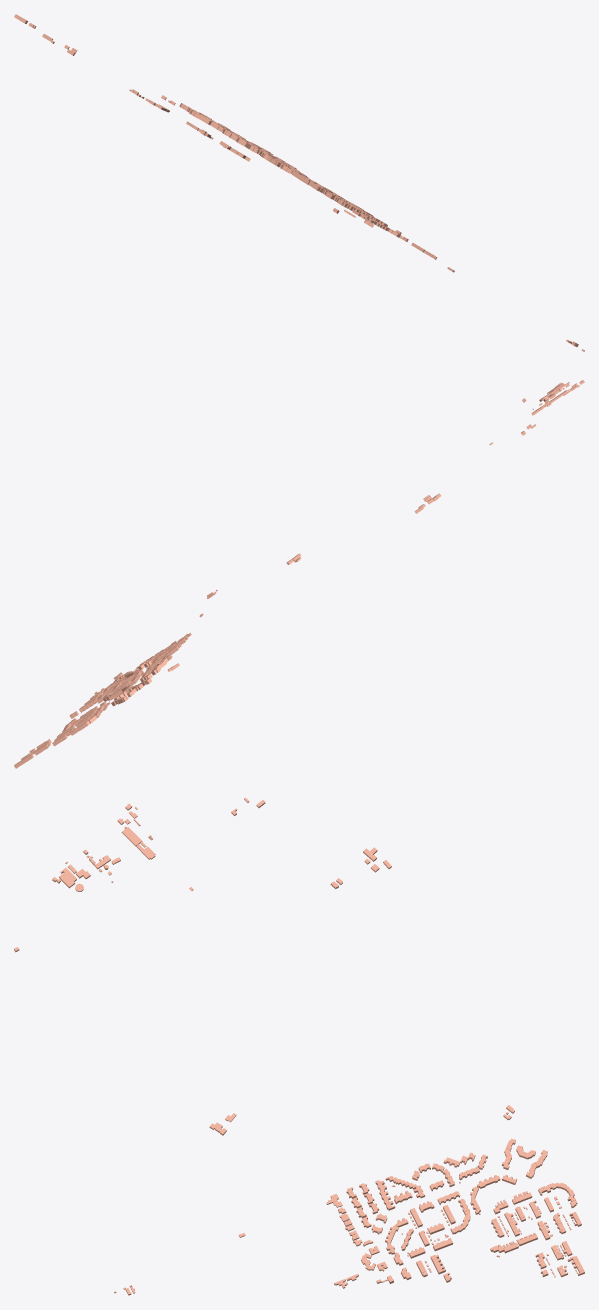
3 renders of one model, top to bottom at view 1: azimuth 30°, elevation 25°; view 2: azimuth 150°, elevation 25°; view 3: azimuth 270°, elevation 25°, orthographic. The views are drawn at different scales.
Bounding box in the file's own units: 977 × 748 × 1247.
